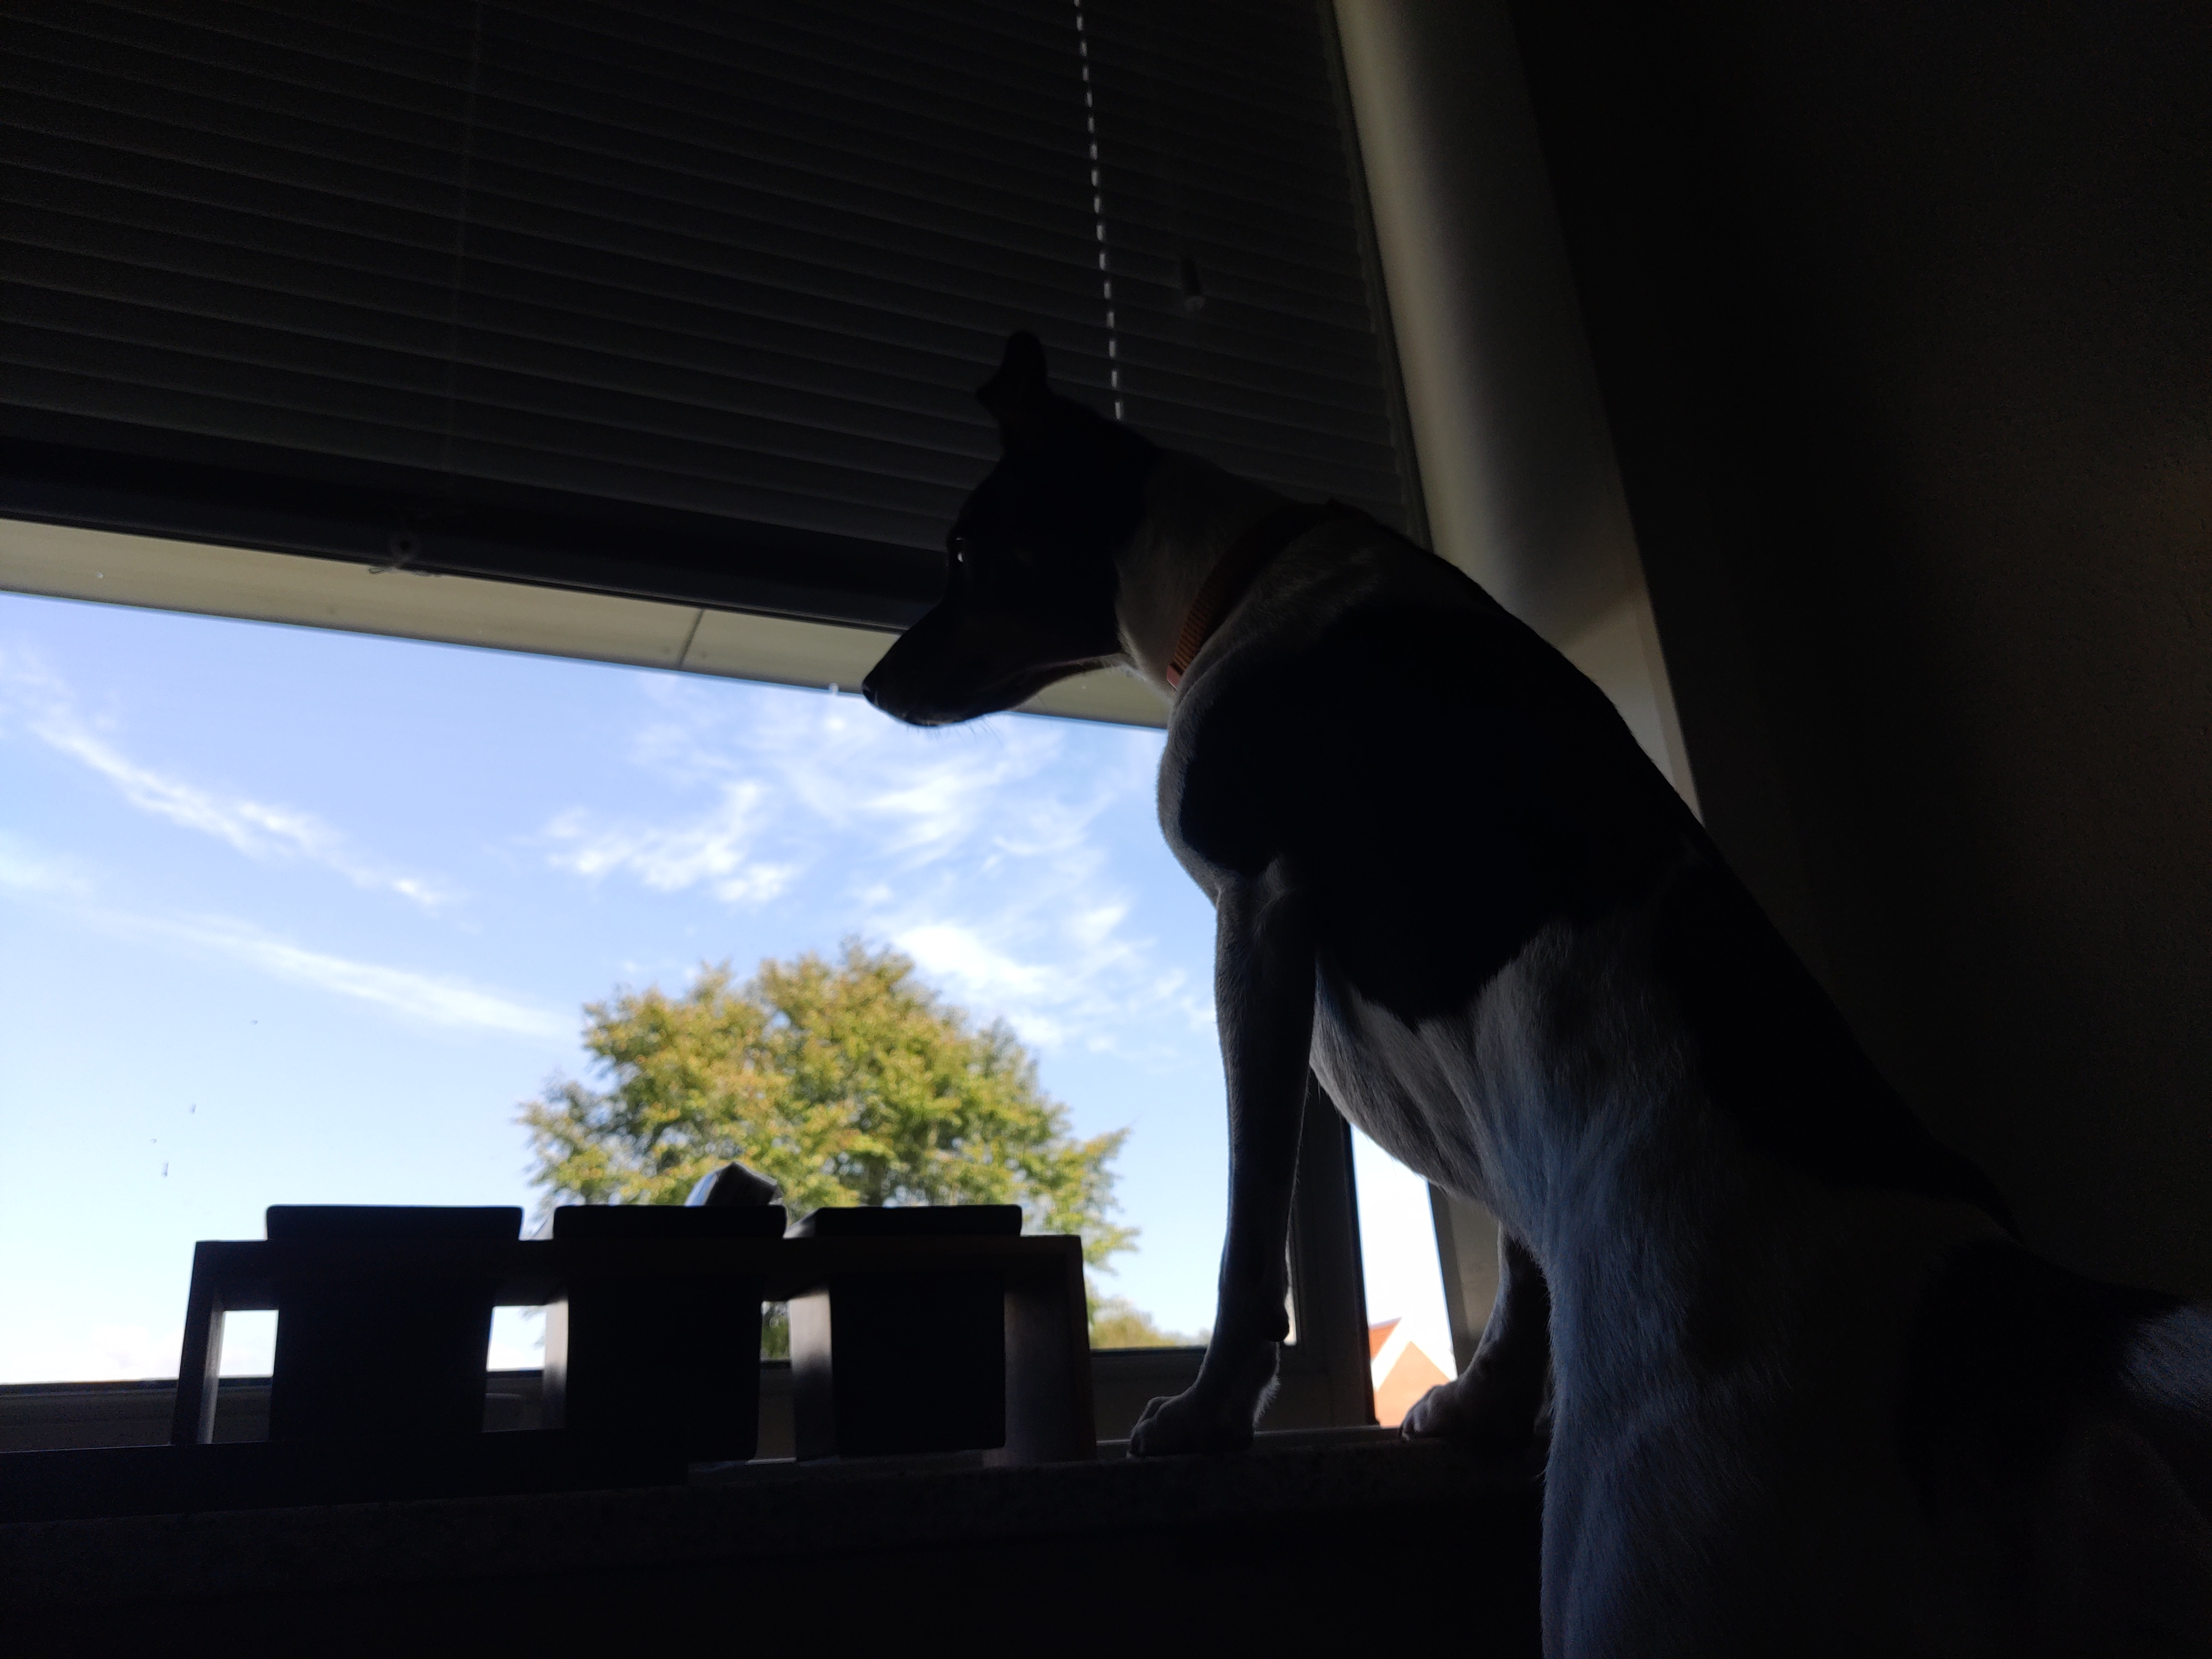Dog: (850, 317, 2212, 1659)
